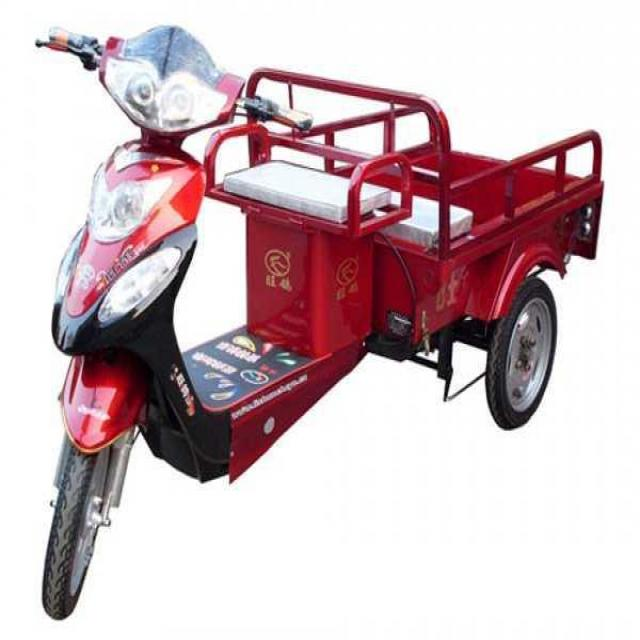tricycle: (36, 16, 605, 617)
